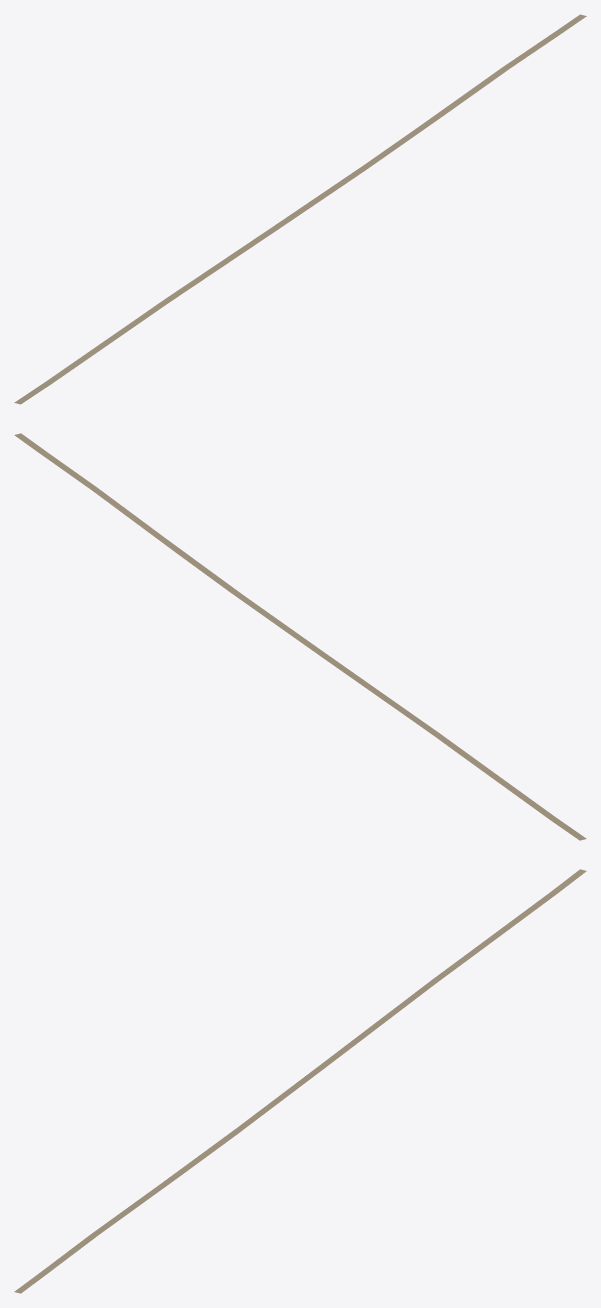
File: farm_9_9_track.glb
3 views of the same model, one above another, from view 1: azimuth 90°, elevation 25°; view 2: azimuth 150°, elevation 25°; view 3: azimuth 270°, elevation 25° (orthographic). The views are drawn at different scales.
Parts seen in each view (by area): view 1: geometry_0; view 2: geometry_0; view 3: geometry_0.
Part boxes in pixels (box(x1,y1,x2,y2)): geometry_0: box(14, 14, 586, 404); geometry_0: box(14, 433, 586, 840); geometry_0: box(14, 869, 586, 1293).
Bounding box in the file's own units: 396 × 7.81 × 236.
